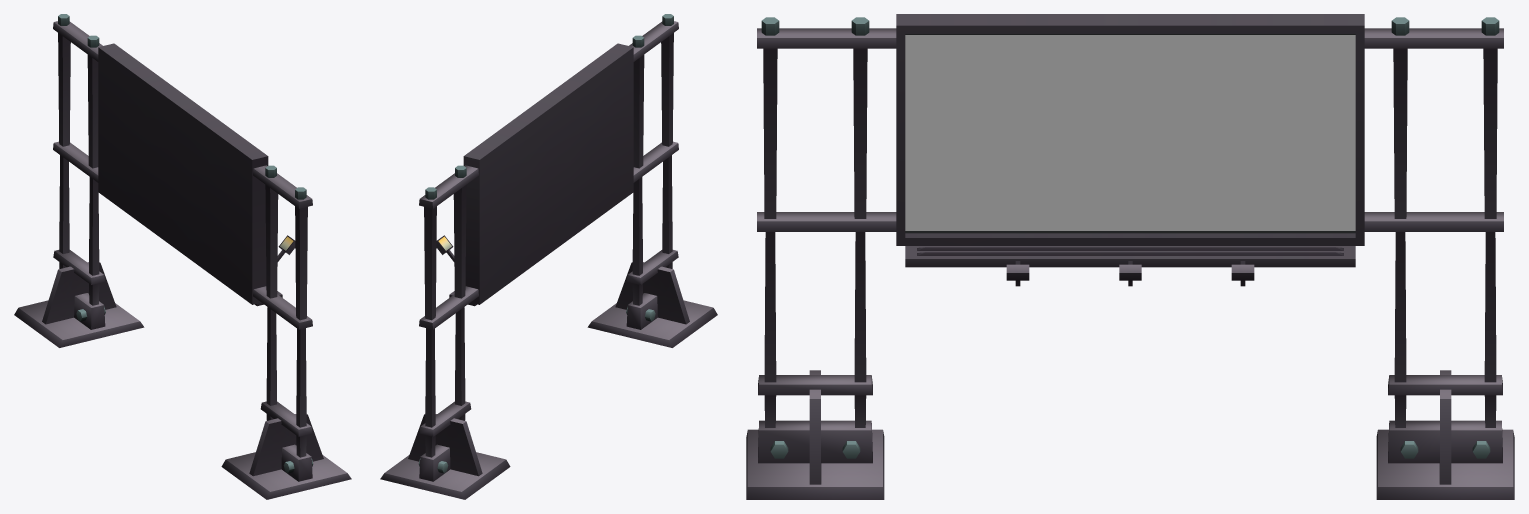
Rendered from Billboard_2E.fbx.
3 views of the same model, side by side, from view 1: azimuth 30°, elevation 25°; view 2: azimuth 150°, elevation 25°; view 3: azimuth 270°, elevation 25° (orthographic). The views are drawn at different scales.
Visible parts, largest first — view 1: Billboard_2E; view 2: Billboard_2E; view 3: Billboard_2E_Image, Billboard_2E.
Part boxes in pixels (x1=…): Billboard_2E: x1=14, y1=14, x2=351, y2=499; Billboard_2E: x1=380, y1=14, x2=717, y2=499; Billboard_2E_Image: x1=905, y1=35, x2=1355, y2=230; Billboard_2E: x1=746, y1=14, x2=1514, y2=499.
Size of the model in its own units: 4.58 by 11 by 17.06.
